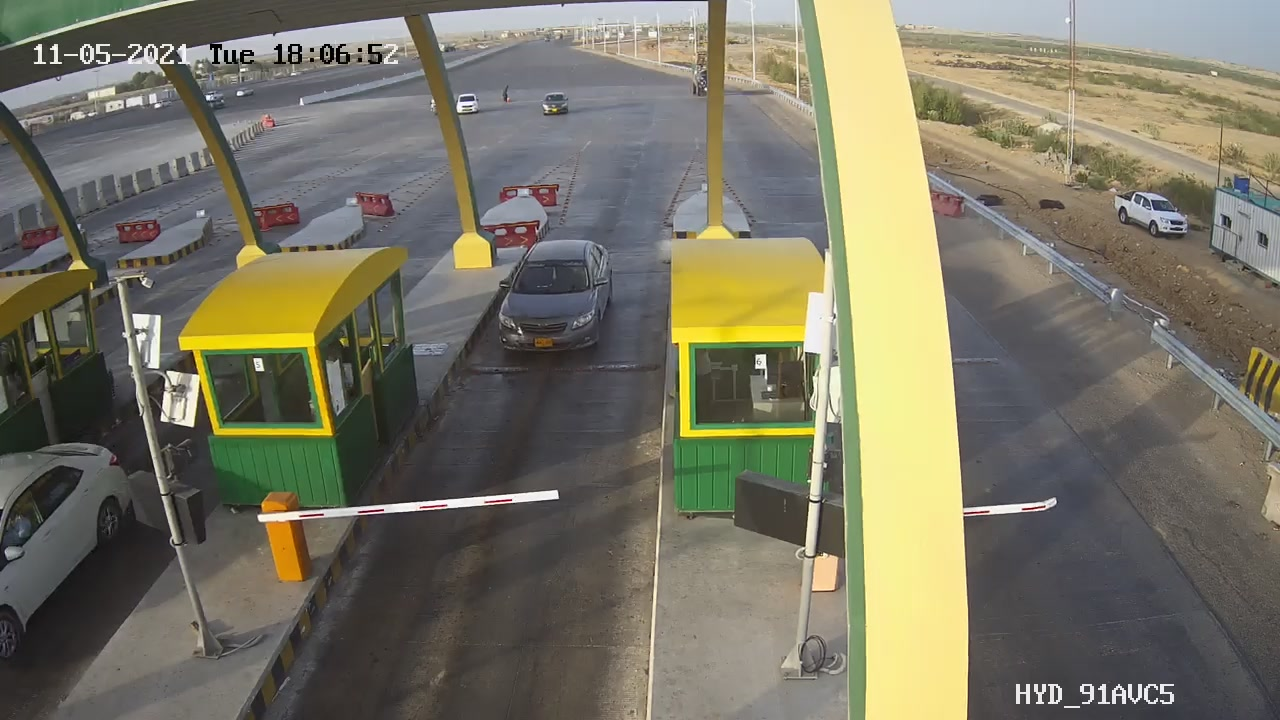F1: (489, 224, 627, 372)
